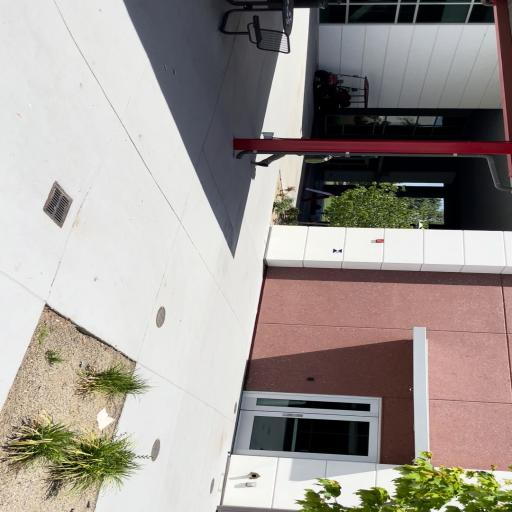target6: (332, 248, 342, 254)
